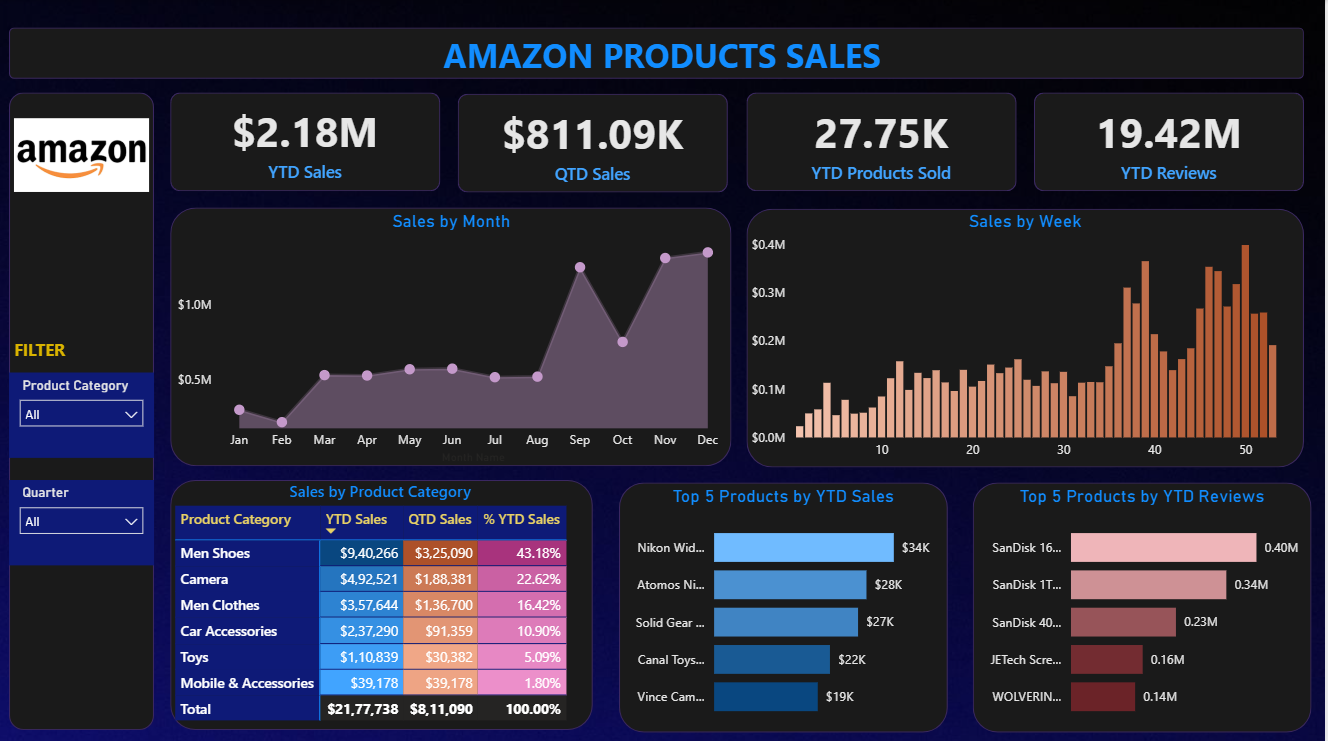

This screenshot's page, from the dashboard's own definition file:
{"tool":"powerbi","page":{"name":"Page 1","canvas":[1280,720],"ordinal":0},"visuals":[{"type":"shape","box":[165.3,89.3,260.6,95.3],"z":0,"group":"g1"},{"type":"shape","box":[9.7,26.5,1249.9,49.5],"z":0},{"type":"card","fields":{"Values":["Amazon_Data.YTD Sales"]},"box":[165.3,89.3,260.6,95.3],"z":1000,"group":"g1"},{"type":"shape","box":[9.7,89.3,139.9,615.3],"z":1000},{"type":"shape","box":[721.1,89.3,260.6,95.3],"z":2000,"group":"g1"},{"type":"textbox","box":[407.8,26.5,464.5,57.9],"z":2000},{"type":"shape","box":[443.2,90.5,260.6,95.3],"z":3000,"group":"g1"},{"type":"shape","box":[165.3,200.3,541.7,249.7],"z":3000},{"type":"shape","box":[999,89.3,260.6,95.3],"z":4000,"group":"g1"},{"type":"group","id":"g1","title":"Group 1","box":[165.3,89.3,1094.2,96.5],"z":4000},{"type":"card","fields":{"Values":["Amazon_Data.YTD Products Sold"]},"box":[721.5,91.7,260.6,92.9],"z":5000,"group":"g1"},{"type":"areaChart","title":"Sales by Month","fields":{"Category":["Date Table.Month Name"],"Y":["Sum(Amazon_Data.Price(Dollar))"]},"box":[167.7,202.7,538.1,249.7],"z":5000},{"type":"card","fields":{"Values":["Amazon_Data.QTD Sales"]},"box":[442.8,92.9,260.6,91.7],"z":6000,"group":"g1"},{"type":"shape","box":[721.5,201.5,538.1,249.7],"z":6000},{"type":"card","fields":{"Values":["Amazon_Data.YTD Reviews"]},"box":[999,91.7,260.6,92.9],"z":7000,"group":"g1"},{"type":"columnChart","title":"Sales by Week","fields":{"Category":["Date Table.Week Number"],"Y":["Sum(Amazon_Data.Price(Dollar))"]},"box":[721.5,202.7,538.1,249.7],"z":7000},{"type":"shape","box":[165.3,463.3,407.8,241.3],"z":8000},{"type":"pivotTable","title":"Sales by Product Category","fields":{"Rows":["Amazon_Data.Product Category"],"Values":["Amazon_Data.YTD Sales1","Amazon_Data.QTD Sales","Amazon_Data.YTD Sales"]},"box":[165.3,463.3,405.4,241.3],"z":9000},{"type":"shape","box":[597.9,466.2,317.3,241.3],"z":10000},{"type":"shape","box":[939.3,466.2,326.9,241.3],"z":11000},{"type":"clusteredBarChart","title":"Top 5 Products by YTD Sales","fields":{"Category":["Amazon_Data.Product Description"],"Y":["Amazon_Data.YTD Sales"]},"box":[598.4,468.1,317.3,238.9],"z":12000},{"type":"clusteredBarChart","title":"Top 5 Products by YTD Reviews","fields":{"Category":["Amazon_Data.Product Description"],"Y":["Amazon_Data.YTD Reviews"]},"box":[939.8,468.1,326.9,238.9],"z":12001},{"type":"slicer","fields":{"Values":["Amazon_Data.Product Category"]},"box":[9.7,359.5,139.9,82],"z":12002},{"type":"slicer","fields":{"Values":["Date Table.Quarter"]},"box":[9.7,463.3,139.9,82],"z":12003},{"type":"image","box":[9.7,89.3,139.9,120.6],"z":12004},{"type":"textbox","box":[9.7,320.9,139.9,38.6],"z":12005}]}

Visuals, with their boxes in screenshot pixels (x1, y1, x2, y2), scaled from the page's 1280x720 canvas onto the 1328x741 screenshot:
shape: <region>171, 92, 442, 190</region>
shape: <region>10, 27, 1307, 78</region>
card - Amazon_Data.YTD Sales: <region>171, 92, 442, 190</region>
shape: <region>10, 92, 155, 725</region>
shape: <region>748, 92, 1019, 190</region>
textbox: <region>423, 27, 905, 87</region>
shape: <region>460, 93, 730, 191</region>
shape: <region>171, 206, 734, 463</region>
shape: <region>1036, 92, 1307, 190</region>
"Group 1" group: <region>171, 92, 1307, 191</region>
card - Amazon_Data.YTD Products Sold: <region>749, 94, 1019, 190</region>
"Sales by Month" areaChart: <region>174, 209, 732, 466</region>
card - Amazon_Data.QTD Sales: <region>459, 96, 730, 190</region>
shape: <region>749, 207, 1307, 464</region>
card - Amazon_Data.YTD Reviews: <region>1036, 94, 1307, 190</region>
"Sales by Week" columnChart: <region>749, 209, 1307, 466</region>
shape: <region>171, 477, 595, 725</region>
"Sales by Product Category" pivotTable: <region>171, 477, 592, 725</region>
shape: <region>620, 480, 950, 728</region>
shape: <region>975, 480, 1314, 728</region>
"Top 5 Products by YTD Sales" clusteredBarChart: <region>621, 482, 950, 728</region>
"Top 5 Products by YTD Reviews" clusteredBarChart: <region>975, 482, 1314, 728</region>
slicer - Amazon_Data.Product Category: <region>10, 370, 155, 454</region>
slicer - Date Table.Quarter: <region>10, 477, 155, 561</region>
image: <region>10, 92, 155, 216</region>
textbox: <region>10, 330, 155, 370</region>
